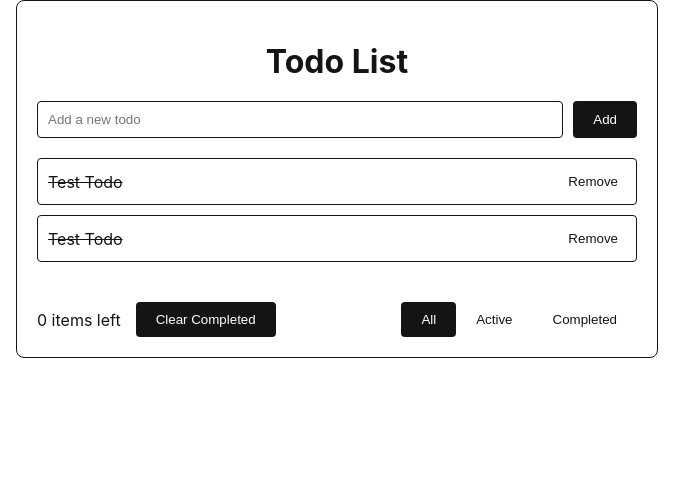
Test case: TodoContext › sets the filter
Type "Test Todo" into the field with placeholder "Add a new todo" at (300, 120), box [37,101,563,138]
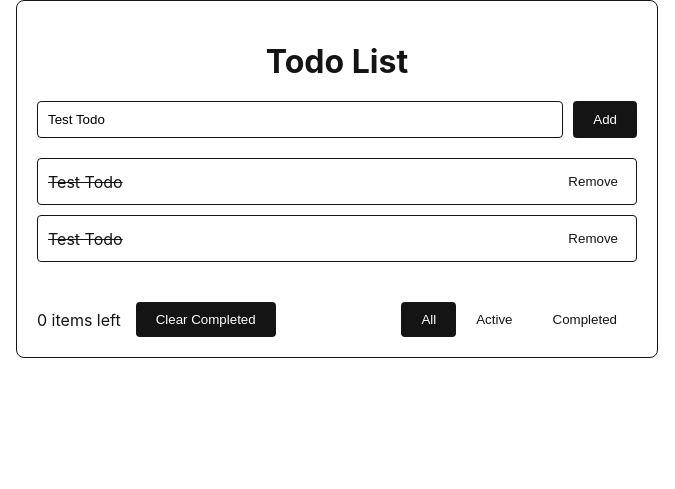
Click the button "Add" at (605, 120), box [573,101,637,138]
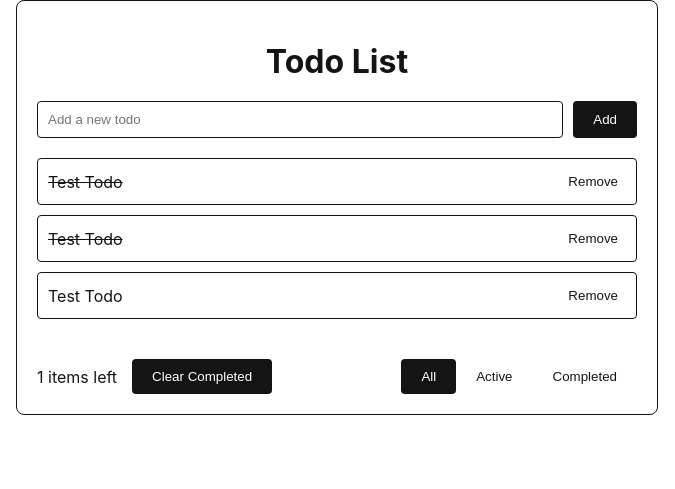
Type "Hidden Todo" into the field with placeholder "Add a new todo" at (300, 120), box [37,101,563,138]
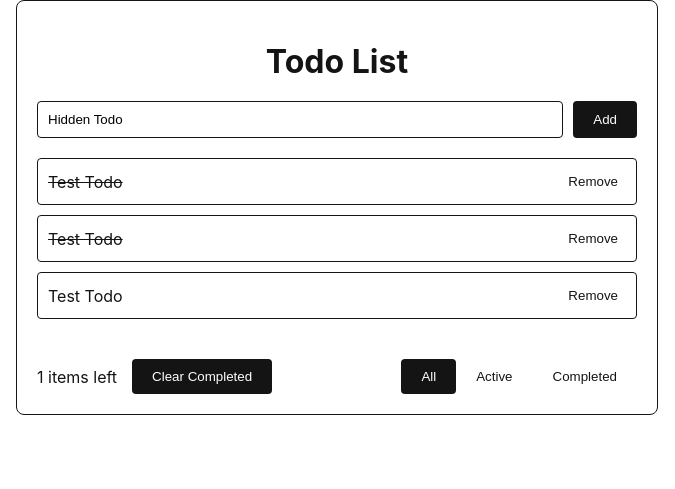
Click the button "Add" at (605, 120), box [573,101,637,138]
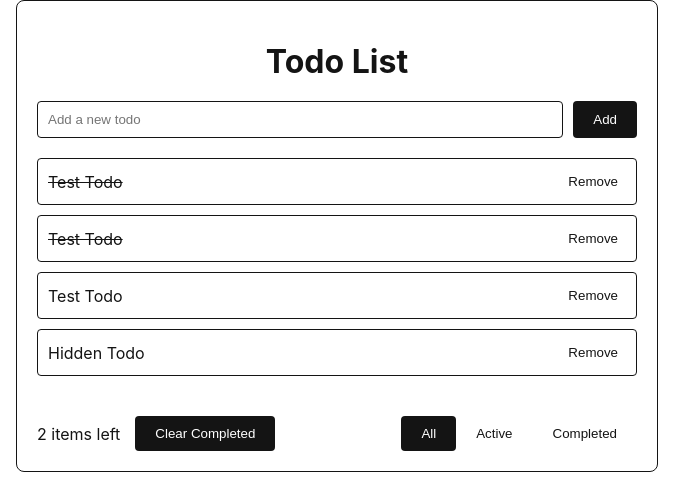
Click the text "Hidden Todo" at (96, 353), box [48,343,145,363]
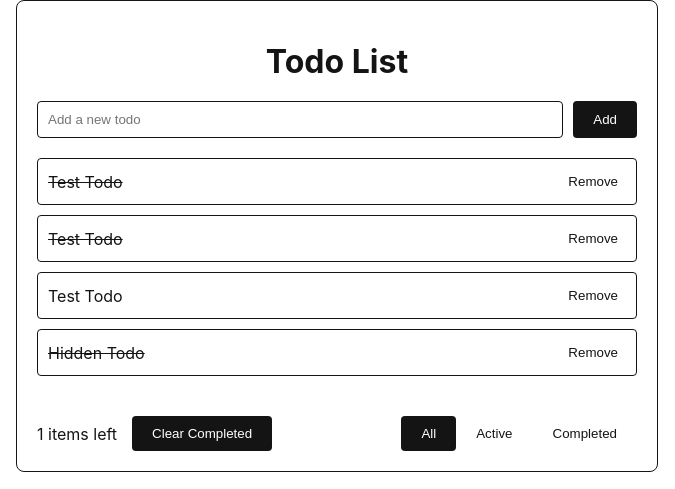
Click the button "Active" at (494, 434), box [456,416,532,451]
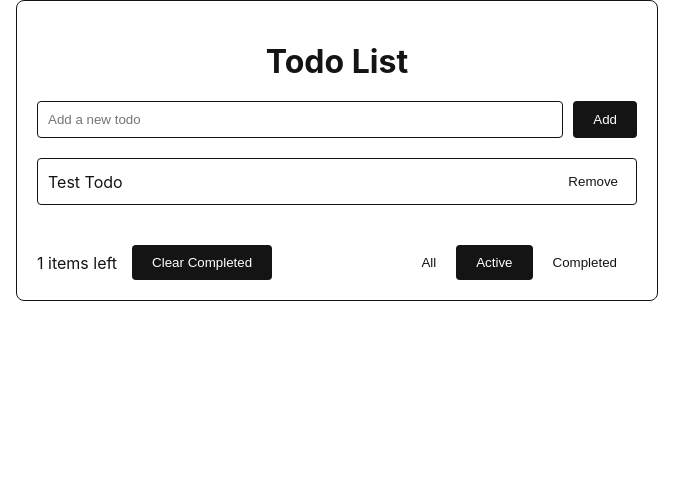
Expected: the text "Hidden Todo" is gone
